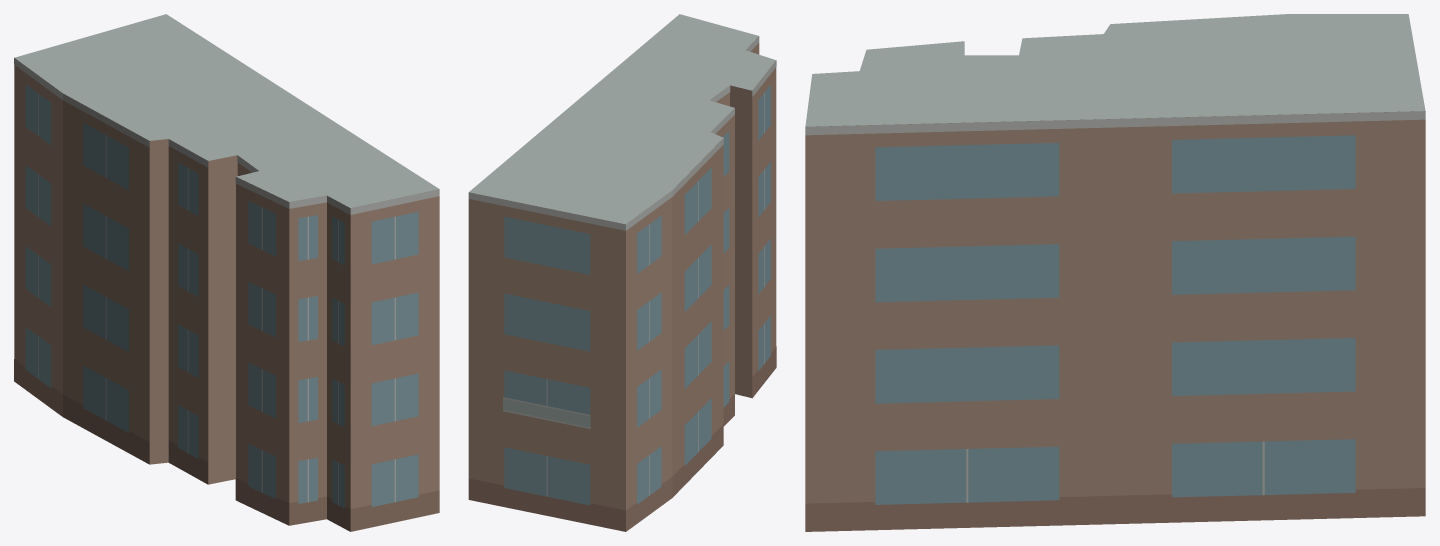
File: survey-upis-32622806.glb
3 views of the same model, side by side, from view 1: azimuth 30°, elevation 25°; view 2: azimuth 150°, elevation 25°; view 3: azimuth 270°, elevation 25° (orthographic). The views are drawn at different scales.
Parts seen in each view (by area): view 1: survey-upis-32622806.tmp; view 2: survey-upis-32622806.tmp; view 3: survey-upis-32622806.tmp.
Part boxes in pixels (x1,y1,x2,y2): survey-upis-32622806.tmp: (14,14,439,531); survey-upis-32622806.tmp: (468,14,776,531); survey-upis-32622806.tmp: (805,14,1425,531).
Size of the model in its own units: 6.87 by 11.5 by 15.97.
